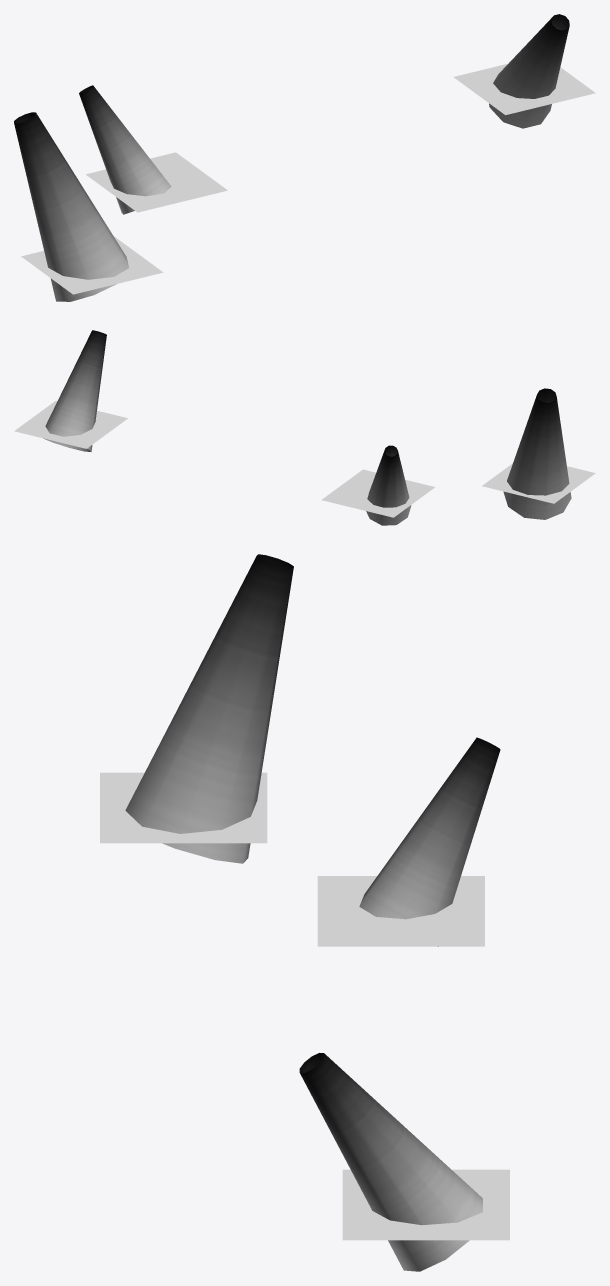
Rendered from rc_fx_07_mod.FBX.
3 renders of one model, top to bottom at view 1: azimuth 30°, elevation 25°; view 2: azimuth 150°, elevation 25°; view 3: azimuth 270°, elevation 25°, orthographic. The views are drawn at different scales.
Visible parts, largest first — view 1: Cone003, Cone001, Cone002, Plane002, Plane003, Plane001; view 2: Cone003, Cone001, Cone002, Plane002, Plane003, Plane001; view 3: Cone003, Cone001, Cone002, Plane002, Plane003, Plane001.
Boxes of the visible parts, box(x1,y1,x2,y2) form: Cone003: box(14, 112, 128, 301); Cone001: box(489, 14, 569, 128); Cone002: box(79, 85, 171, 214); Plane002: box(86, 152, 227, 212); Plane003: box(453, 63, 595, 115); Plane001: box(21, 236, 163, 294); Cone003: box(503, 388, 571, 519); Cone001: box(43, 330, 106, 451); Cone002: box(366, 445, 411, 525); Plane002: box(321, 469, 435, 517); Plane003: box(14, 400, 127, 448); Plane001: box(482, 463, 595, 503); Cone003: box(125, 554, 293, 863); Cone001: box(299, 1053, 482, 1271); Cone002: box(359, 737, 500, 946); Plane002: box(317, 876, 484, 946); Plane003: box(342, 1169, 509, 1240); Plane001: box(100, 772, 267, 843).
Size of the model in its own units: 19722 by 5507 by 7260.
